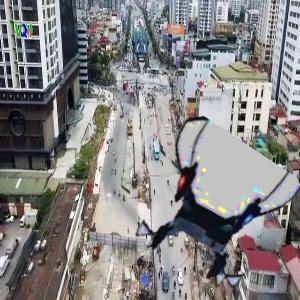drone: (140, 137, 287, 284)
